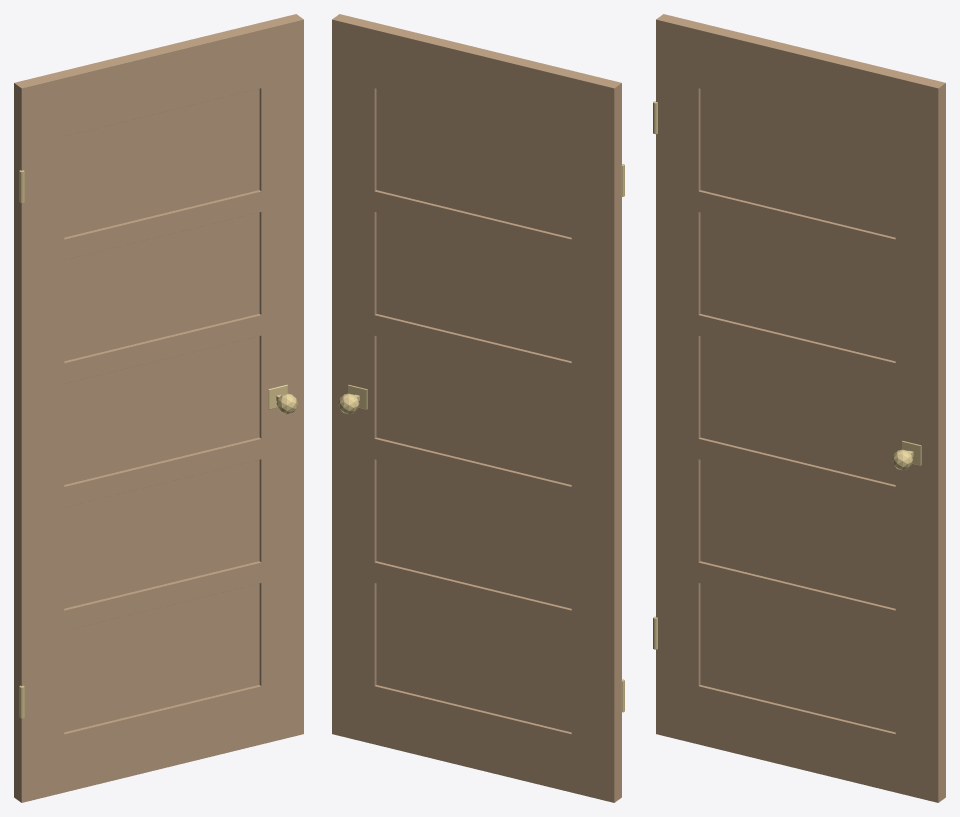
Rendered from door_leaf_int.glb.
3 renders of one model, left to right at view 1: azimuth 30°, elevation 25°; view 2: azimuth 150°, elevation 25°; view 3: azimuth 330°, elevation 25°, orthographic.
Parts seen in each view (by area): view 1: door_leaf_int_door_int, door_leaf_int_brass; view 2: door_leaf_int_door_int, door_leaf_int_brass; view 3: door_leaf_int_door_int, door_leaf_int_brass.
Boxes of the visible parts, x1,y1,x2,y2 form: door_leaf_int_door_int: (14, 14, 303, 802); door_leaf_int_brass: (19, 170, 297, 718); door_leaf_int_door_int: (332, 14, 621, 802); door_leaf_int_brass: (338, 164, 624, 712); door_leaf_int_door_int: (656, 14, 945, 802); door_leaf_int_brass: (653, 101, 921, 649).
Size of the model in its own units: 0.867 by 2.08 by 0.196.
